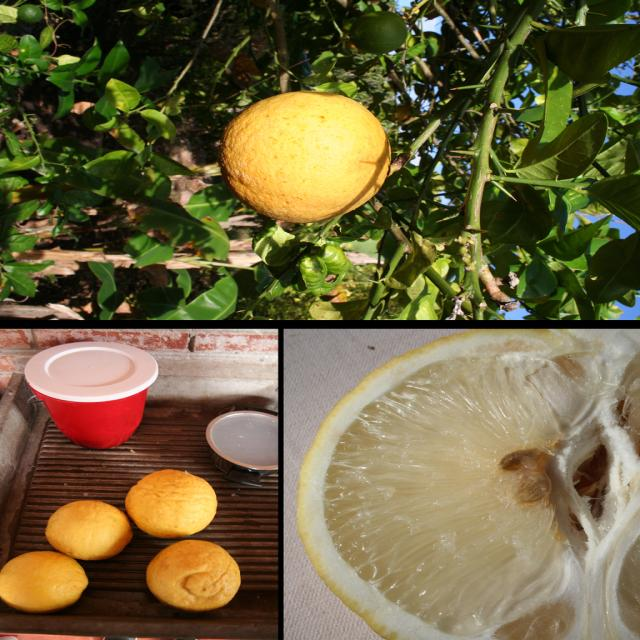Lemon: (299, 328, 640, 640), (223, 91, 389, 222), (148, 538, 239, 610), (124, 466, 216, 536), (0, 550, 89, 608), (47, 503, 139, 558)
